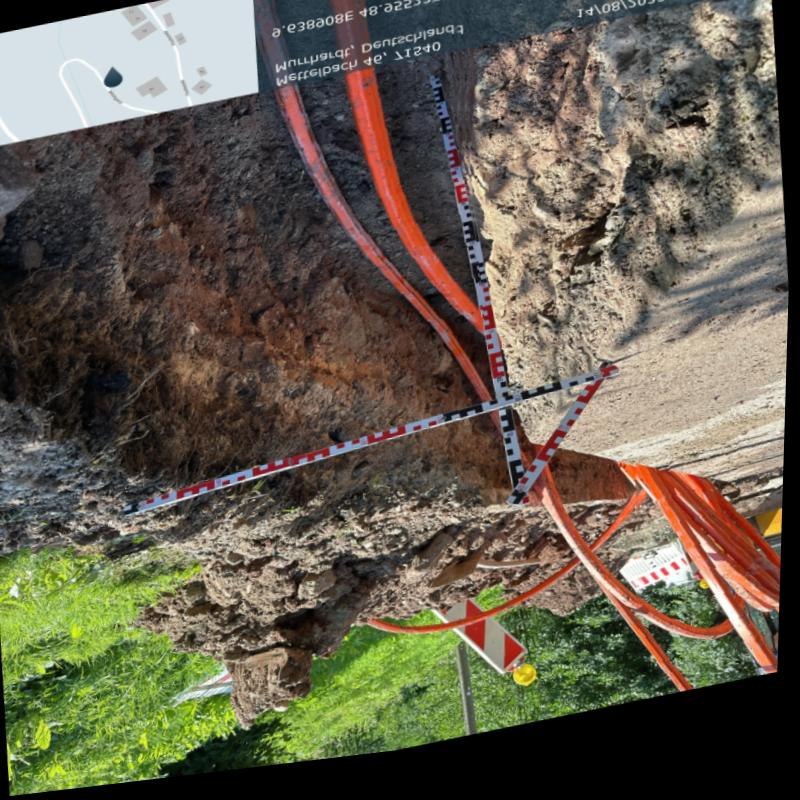Orang-Speednetrohrchen: (253, 0, 486, 347), (638, 478, 785, 673)
